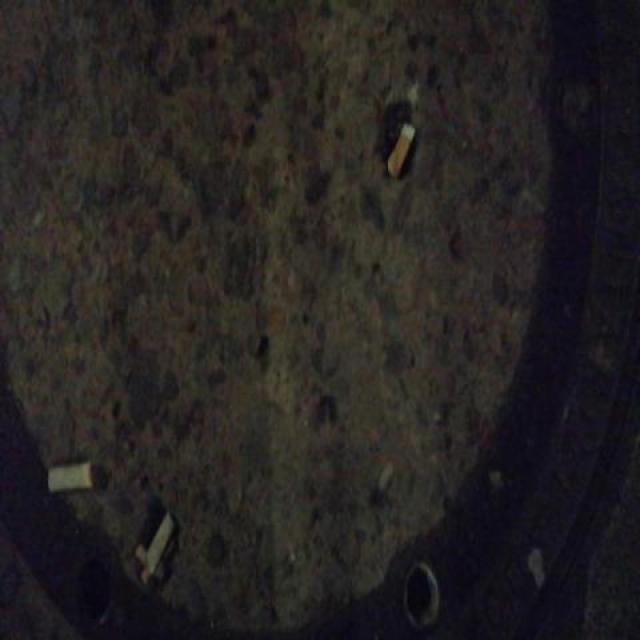non-organic waste: (142, 509, 178, 583), (382, 116, 419, 188), (42, 456, 98, 500)
